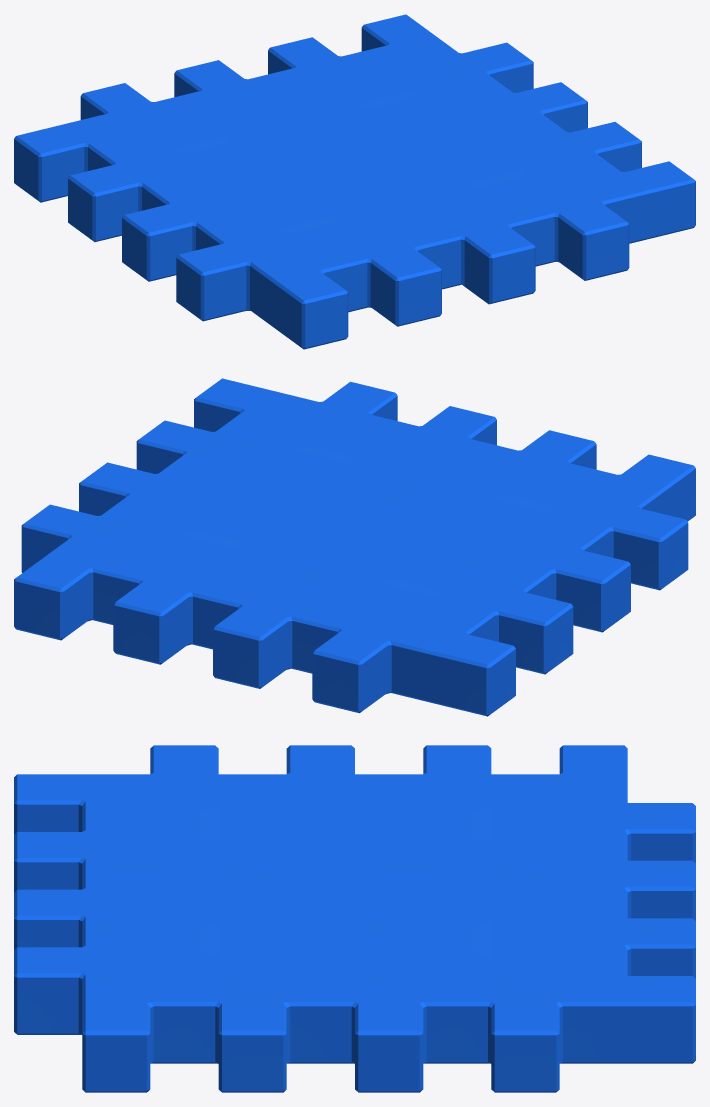
The model's file is BlueSquare.fbx.
3 views of the same model, one above another, from view 1: azimuth 30°, elevation 25°; view 2: azimuth 150°, elevation 25°; view 3: azimuth 270°, elevation 25° (orthographic). The views are drawn at different scales.
Visible parts, largest first — view 1: BlueSquare; view 2: BlueSquare; view 3: BlueSquare.
Boxes of the visible parts, bbox=[...] form: BlueSquare: bbox=[14, 14, 695, 349]; BlueSquare: bbox=[14, 378, 695, 716]; BlueSquare: bbox=[14, 745, 695, 1092].
Bounding box in the file's own units: 5 × 0.4999 × 5.
